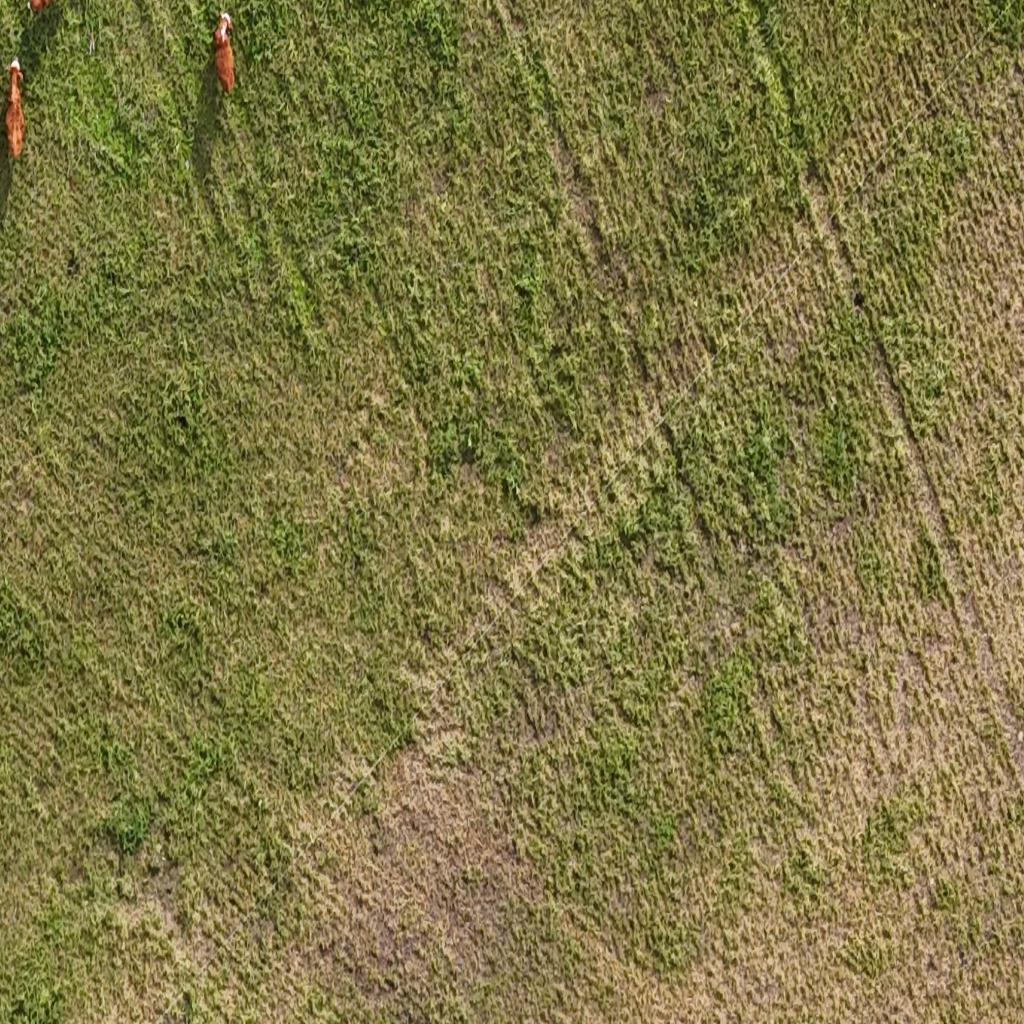cow: (0, 51, 34, 168), (212, 9, 238, 100)
